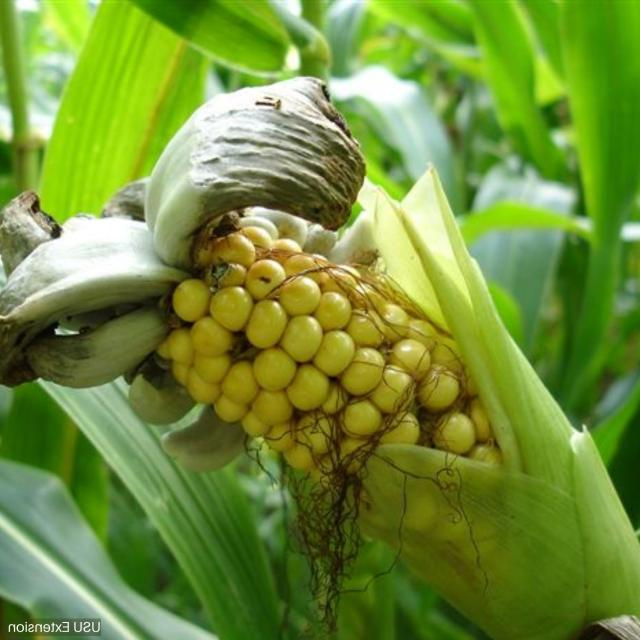Leaf_Scald: (0, 56, 499, 592)
